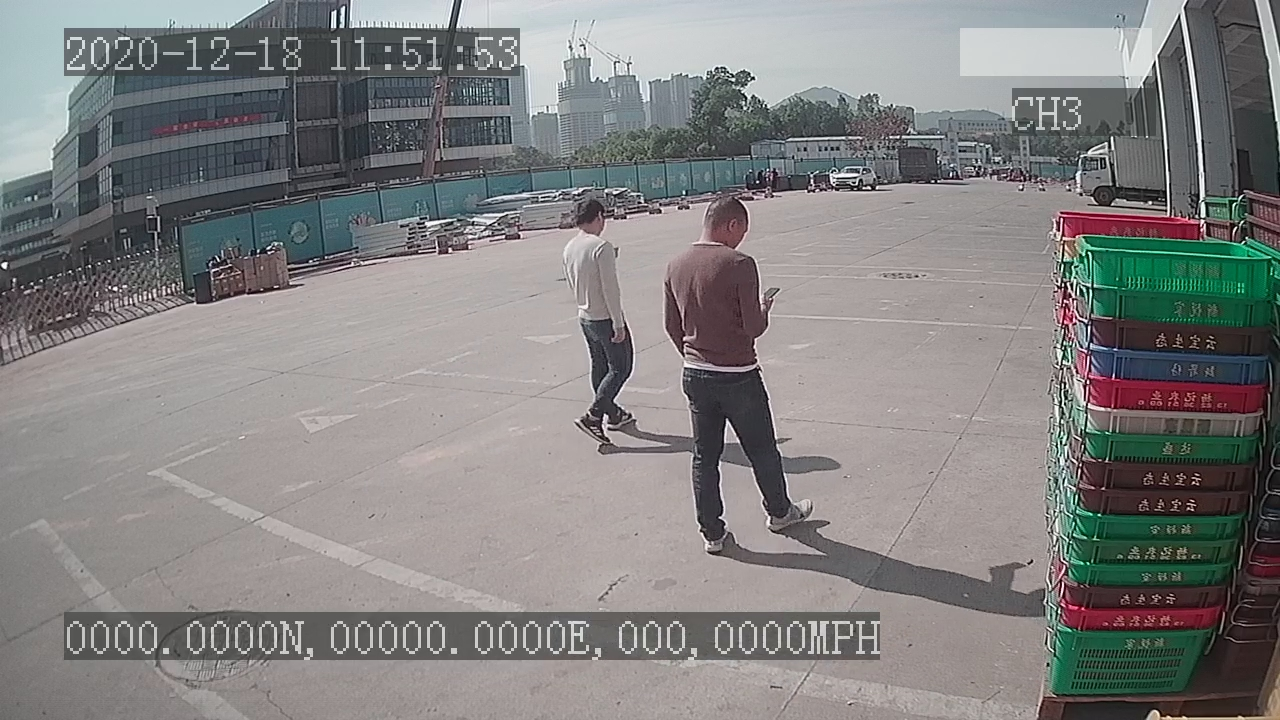person: (647, 188, 824, 558), (552, 194, 647, 465)
